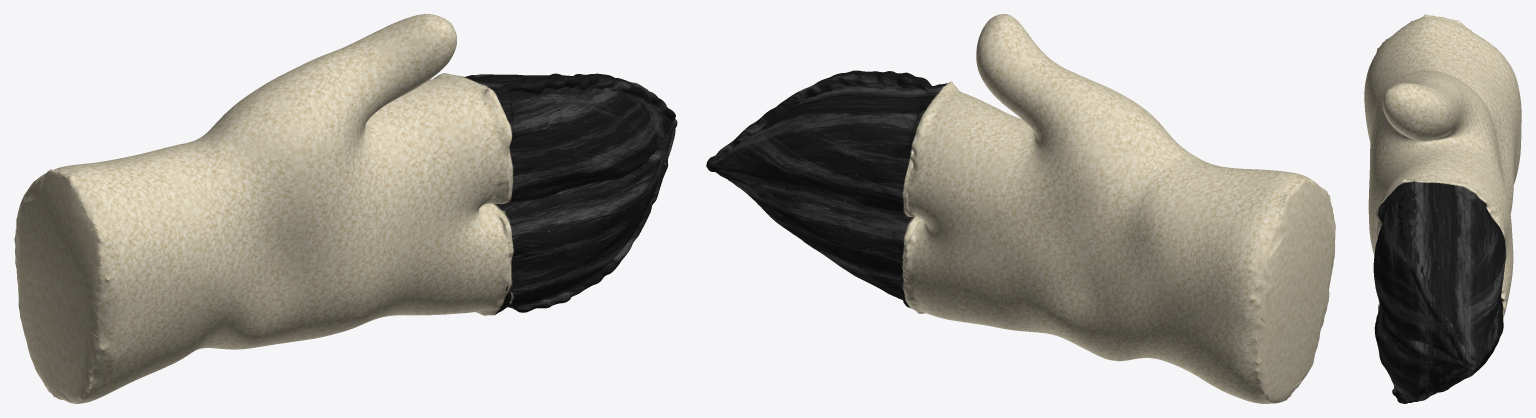
Rendered from gloves_hoof.glb.
3 views of the same model, side by side, from view 1: azimuth 30°, elevation 25°; view 2: azimuth 150°, elevation 25°; view 3: azimuth 270°, elevation 25° (orthographic). The views are drawn at different scales.
Parts seen in each view (by area): view 1: Glove_hoof_palm, Glove_hoof_toe_index_middle, Glove_hoof_toe_ring_little; view 2: Glove_hoof_palm, Glove_hoof_toe_index_middle, Glove_hoof_toe_ring_little; view 3: Glove_hoof_palm, Glove_hoof_toe_index_middle, Glove_hoof_toe_ring_little.
Part boxes in pixels (x1,y1,x2,y2): Glove_hoof_palm: [14, 14, 459, 403]; Glove_hoof_toe_index_middle: [412, 73, 677, 213]; Glove_hoof_toe_ring_little: [434, 137, 674, 315]; Glove_hoof_palm: [946, 14, 1335, 403]; Glove_hoof_toe_index_middle: [706, 70, 993, 234]; Glove_hoof_toe_ring_little: [719, 174, 959, 321]; Glove_hoof_palm: [1364, 14, 1521, 280]; Glove_hoof_toe_index_middle: [1373, 162, 1508, 373]; Glove_hoof_toe_ring_little: [1374, 246, 1511, 403].
Size of the model in its own units: 0.247 by 0.118 by 0.0633.
Materials: 1 (1 with a texture image).
